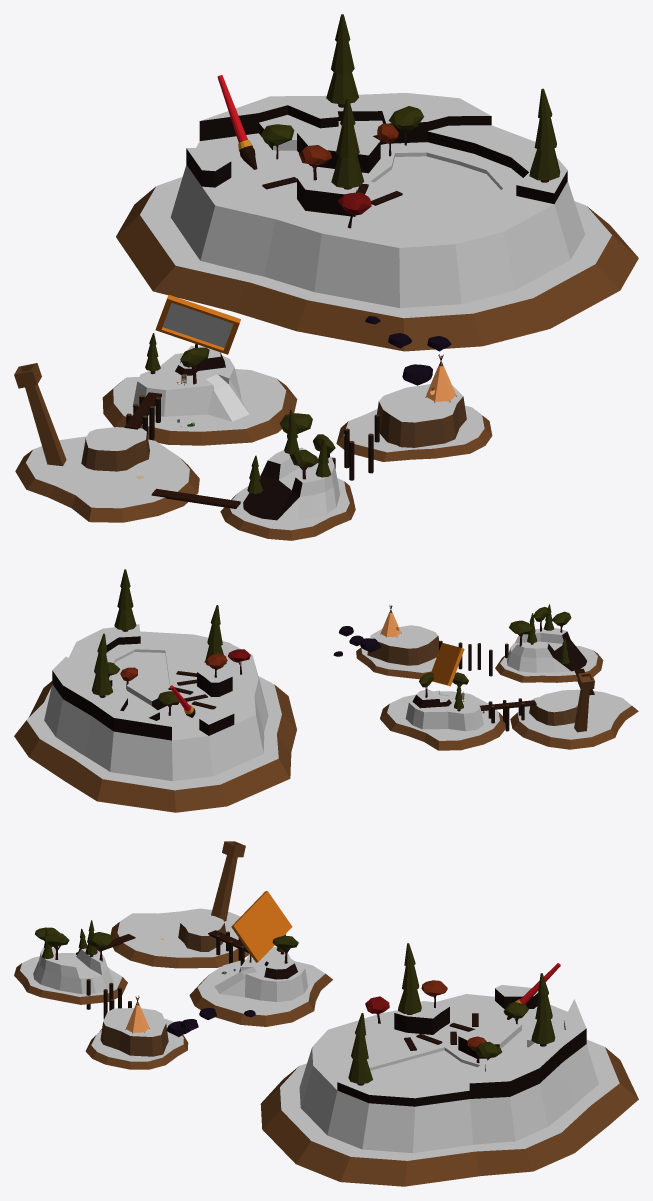
The model's file is Game.obj.
3 renders of one model, top to bottom at view 1: azimuth 30°, elevation 25°; view 2: azimuth 150°, elevation 25°; view 3: azimuth 270°, elevation 25°, orthographic. The views are drawn at different scales.
Visible parts, largest first — view 1: Cylinder.021, Cylinder.012, Cylinder.008, Cylinder.001, Cylinder, Cylinder.013, Cylinder.014, Cylinder.011, Cylinder.010, Cube.004, Cylinder.009, Cube.002 (+5 smaller); view 2: Cylinder.021, Cylinder.012, Cylinder.008, Cylinder.001, Cylinder.013, Cylinder, Cylinder.014, Cylinder.010, Cylinder.009, Cylinder.011, Cube.004, Plane.005 (+3 smaller); view 3: Cylinder.021, Cylinder.012, Cylinder.008, Cylinder.001, Cylinder, Cylinder.013, Cylinder.014, Cube.004, Cylinder.011, Cylinder.010, Cylinder.009, Cube.002 (+3 smaller).
Part boxes in pixels (box(x1,y1,x2,y2)): Cylinder.021: box(170, 93, 585, 308); Cylinder.012: box(116, 177, 638, 351); Cylinder.008: box(15, 436, 199, 522); Cylinder.001: box(102, 369, 297, 445); Cylinder: box(132, 346, 248, 421); Cylinder.013: box(243, 447, 340, 520); Cylinder.014: box(377, 384, 466, 447); Cylinder.011: box(336, 405, 492, 461); Cylinder.010: box(220, 478, 355, 540); Cube.004: box(155, 295, 240, 354); Cylinder.009: box(81, 427, 149, 471); Cube.002: box(14, 363, 66, 466); Cylinder.021: box(44, 624, 268, 781); Cylinder.012: box(14, 676, 296, 812); Cylinder.008: box(510, 689, 638, 749); Cylinder.001: box(380, 691, 505, 750); Cylinder.013: box(506, 627, 587, 672); Cylinder: box(405, 689, 483, 731); Cylinder.014: box(367, 625, 439, 665); Cylinder.010: box(495, 646, 603, 682); Cylinder.009: box(529, 695, 577, 725); Cylinder.011: box(356, 647, 436, 679); Cube.004: box(431, 643, 464, 686); Plane.005: box(114, 569, 136, 631); Cylinder.021: box(299, 985, 598, 1153); Cylinder.012: box(260, 1039, 638, 1186); Cylinder.008: box(110, 908, 249, 968); Cylinder.001: box(189, 959, 332, 1026); Cylinder: box(214, 947, 307, 1001); Cylinder.013: box(33, 948, 113, 994); Cylinder.014: box(100, 1008, 168, 1056); Cube.004: box(231, 891, 292, 962); Cylinder.011: box(85, 1018, 188, 1069); Cylinder.010: box(14, 953, 127, 1004); Cylinder.009: box(178, 913, 225, 951); Cube.002: box(211, 841, 245, 921).
Size of the model in its own units: 194 by 50.22 by 190.
